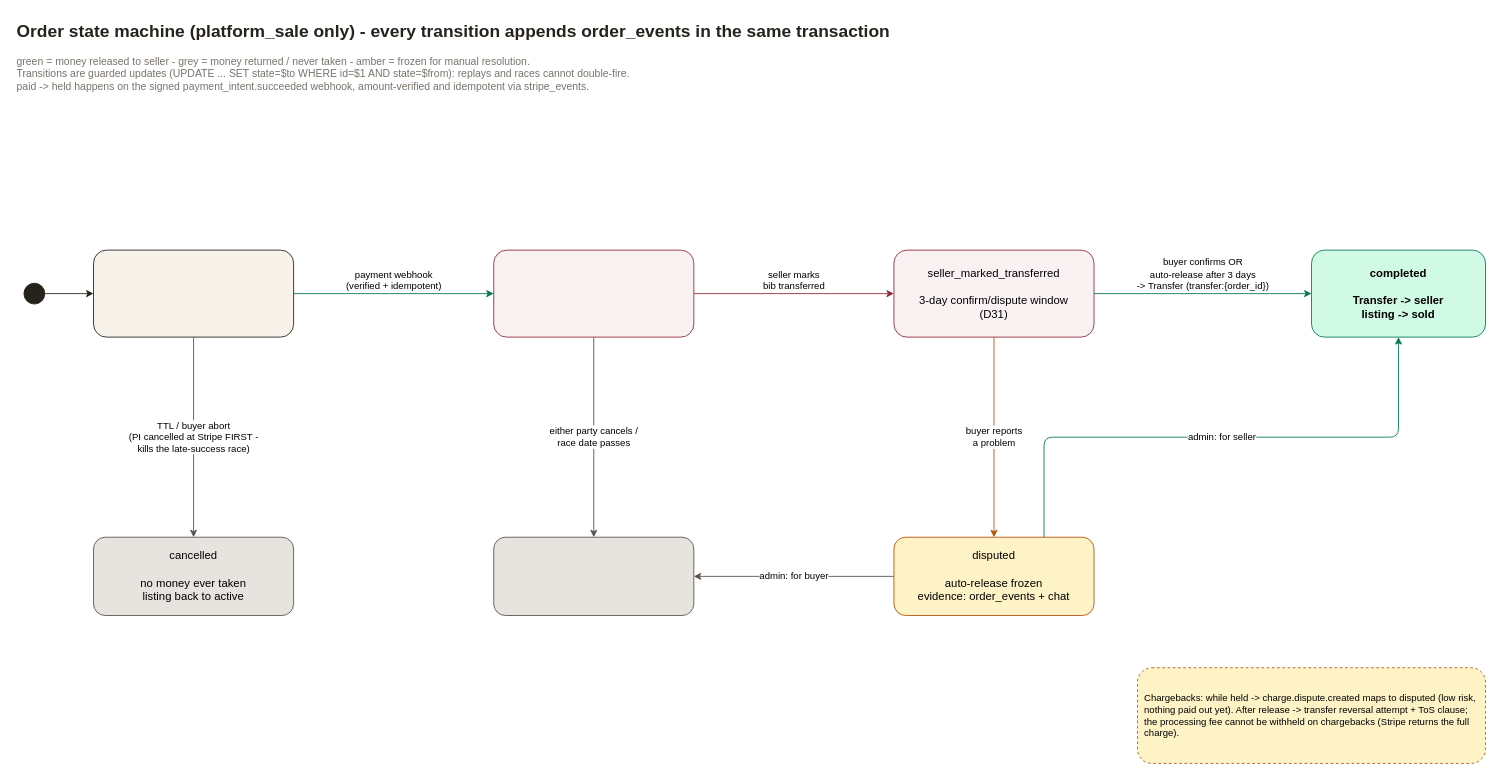
This 1501x779 diagram has some shape labels left out. Here are the shapes that lost their labels. From the top down, the centre of each, then its label:
(x=193, y=293): pending_payment listing reserved (30 min TTL) one PaymentIntent, retryable
(x=593, y=293): paid_held funds on the platform balance (not paid out to anyone)
(x=593, y=576): refunded Refund of item amount (fee non-refundable - D31)
